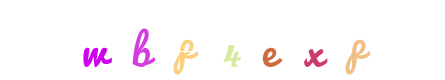4: (182, 0, 262, 80)
B: (97, 0, 177, 80)
E: (206, 0, 286, 80)
P: (130, 0, 210, 80), (254, 0, 334, 80)
W: (55, 0, 135, 80)
X: (232, 0, 312, 80)
